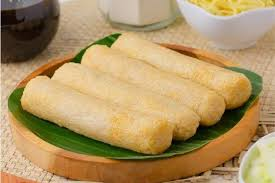Pempek lenjer: (78, 39, 226, 128), (23, 73, 174, 157), (52, 56, 201, 140), (110, 29, 252, 110)
